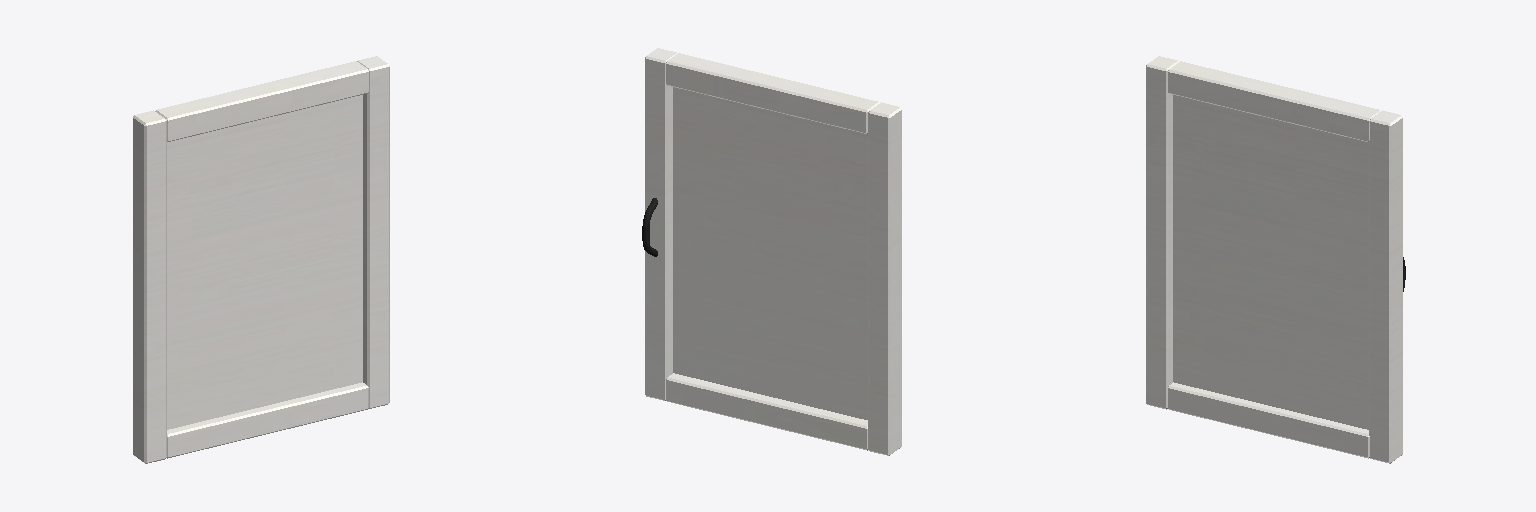
The picture shows the model from 3 angles: view 1: azimuth 30°, elevation 25°; view 2: azimuth 150°, elevation 25°; view 3: azimuth 330°, elevation 25°; orthographic projection.
Parts seen in each view (by area): view 1: Object169, Object170; view 2: Object169, Object170; view 3: Object169, Object170.
Part boxes in pixels (left/top/right/bottom): Object169: left=167, top=95, right=362, bottom=429; Object170: left=133, top=56, right=389, bottom=463; Object169: left=673, top=87, right=867, bottom=419; Object170: left=645, top=48, right=901, bottom=455; Object169: left=1173, top=95, right=1368, bottom=429; Object170: left=1146, top=56, right=1402, bottom=463.
Bounding box in the file's own units: 428 × 566 × 72.94.
3 materials, 1 textured.